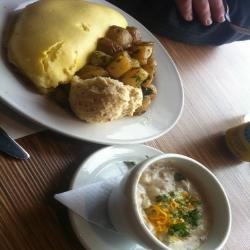fries: (85, 26, 164, 91)
omelette: (9, 2, 128, 94)
